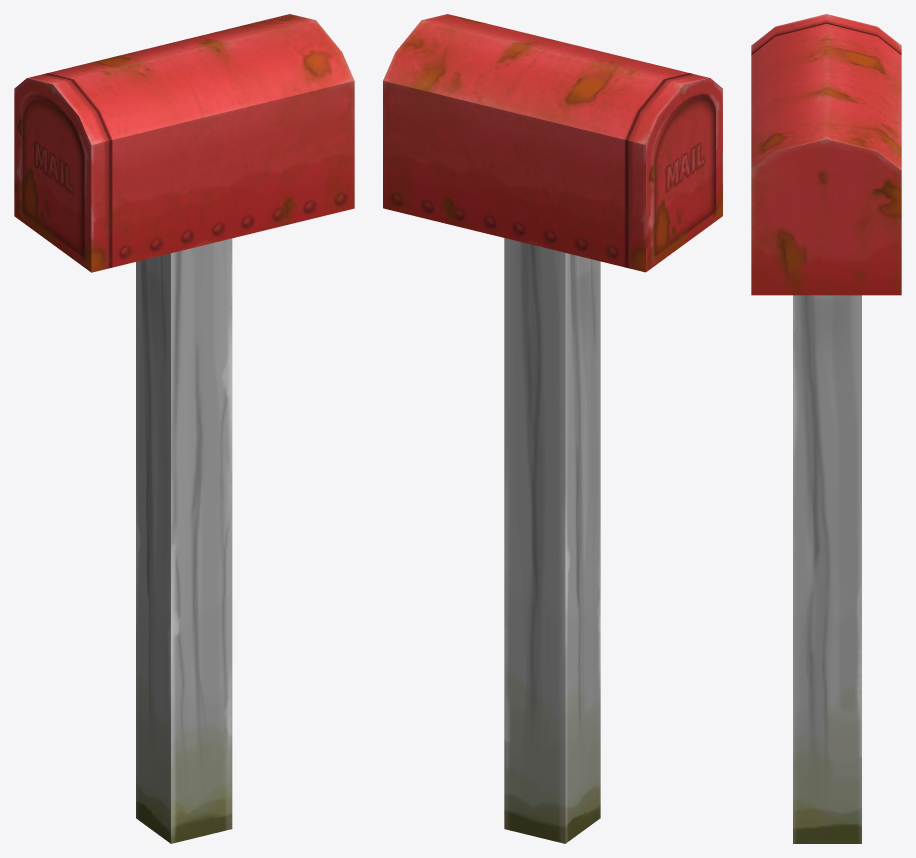
Rendered from mailBox03.fbx.
The picture shows the model from 3 angles, left to right: view 1: azimuth 30°, elevation 25°; view 2: azimuth 150°, elevation 25°; view 3: azimuth 270°, elevation 25°; orthographic projection. The views are drawn at different scales.
Visible parts, largest first — view 1: mailBox03; view 2: mailBox03; view 3: mailBox03.
Part boxes in pixels (bbox=[...]): mailBox03: bbox=[14, 14, 354, 843]; mailBox03: bbox=[383, 14, 722, 843]; mailBox03: bbox=[751, 14, 901, 843].
Size of the model in its own units: 43.09 by 121 by 21.86.
